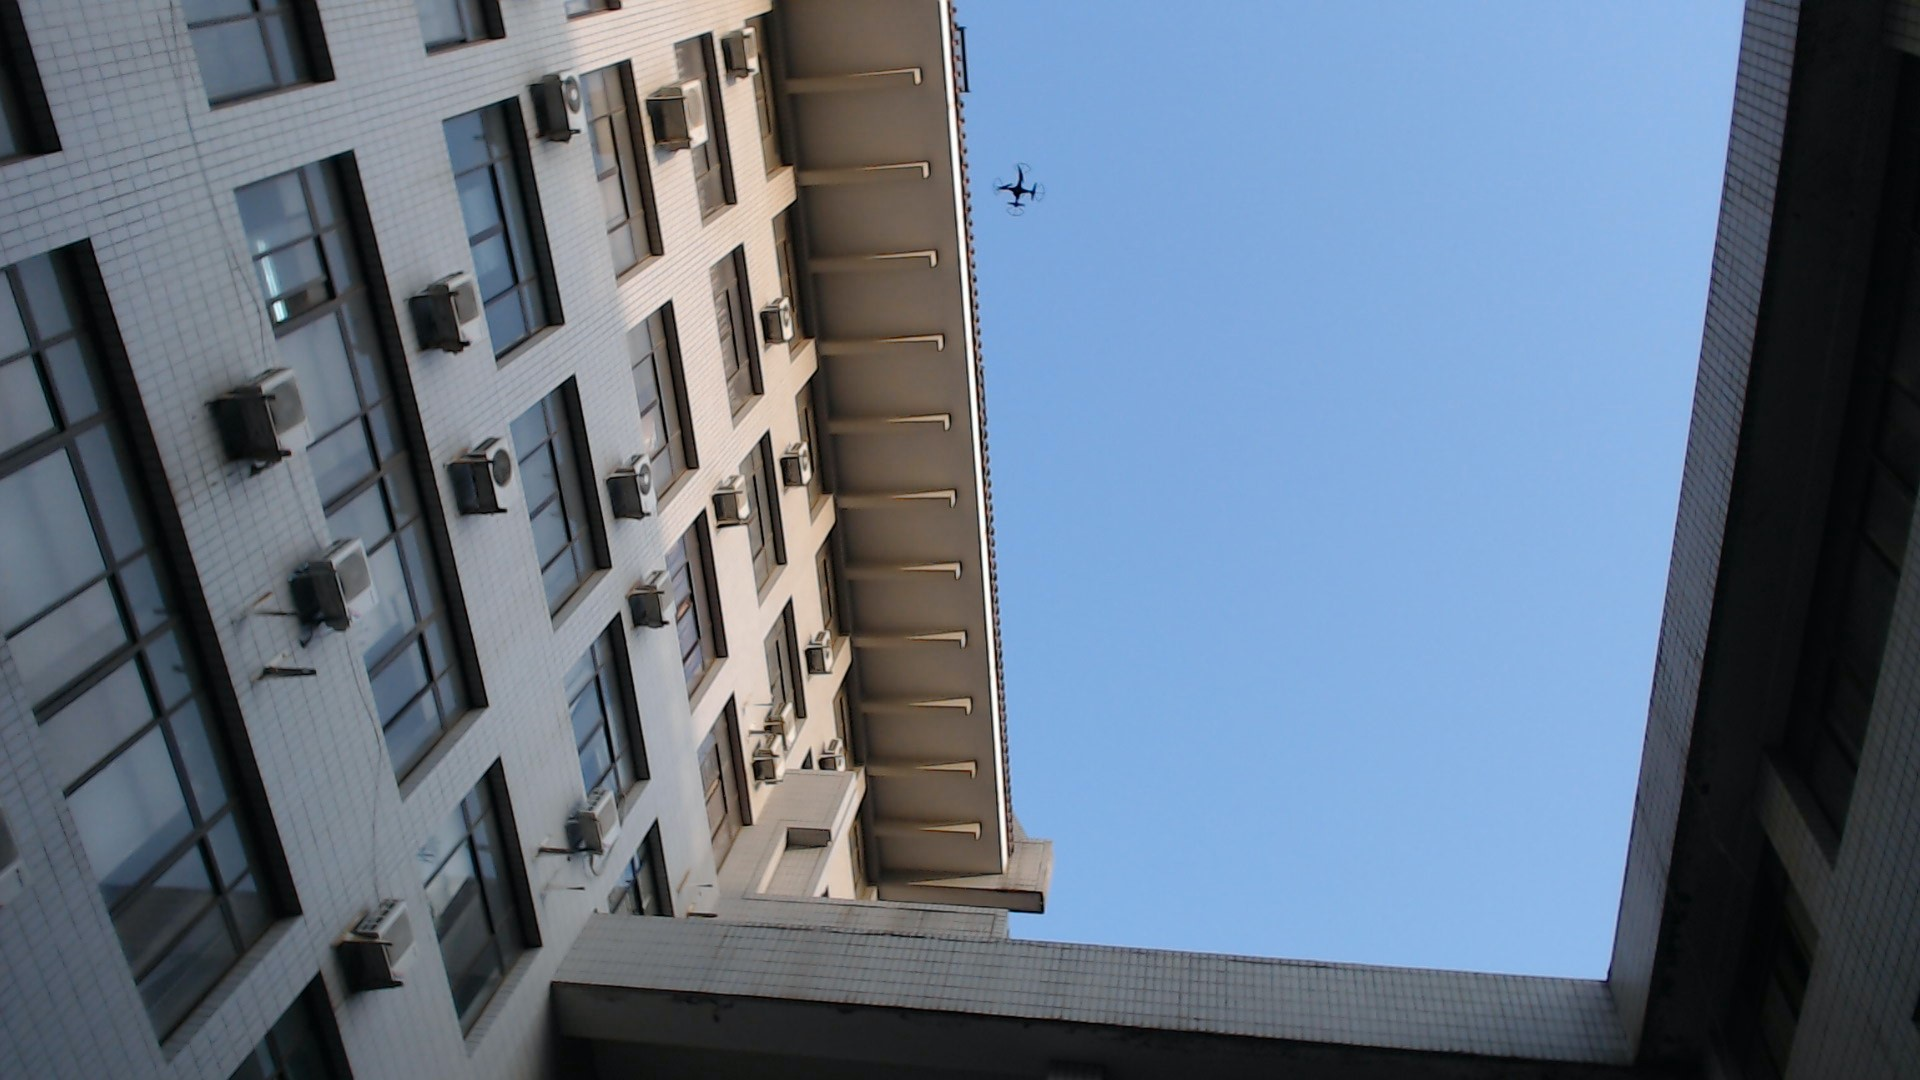drone: (978, 148, 1065, 225)
